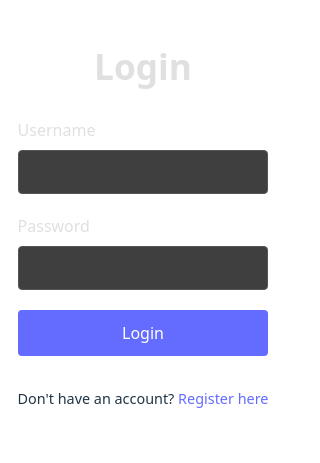
Test case: LoginPage Component › should show an error message on failed login
Type "wronguser" into the field labelled "Username" at (143, 172), box [18, 150, 268, 194]
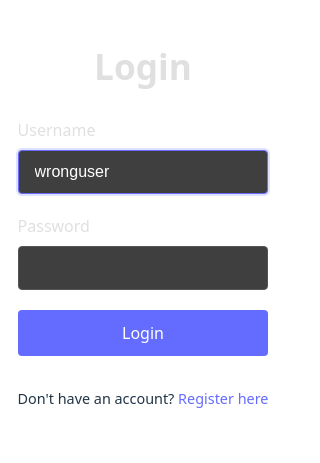
Type "wrongpass" into the password field labelled "Password" at (143, 268), box [18, 246, 268, 290]
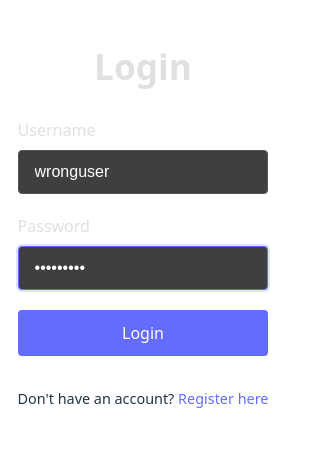
Click the button "Login" at (143, 333), box [18, 310, 268, 356]
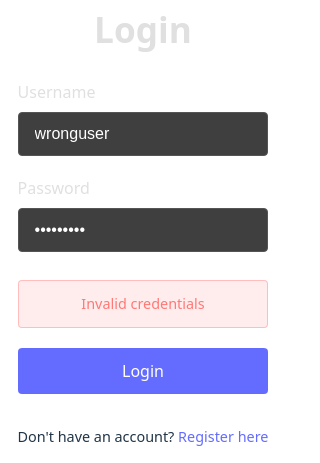
Check: the text "Invalid credentials" is shown, box [18, 280, 268, 328]
